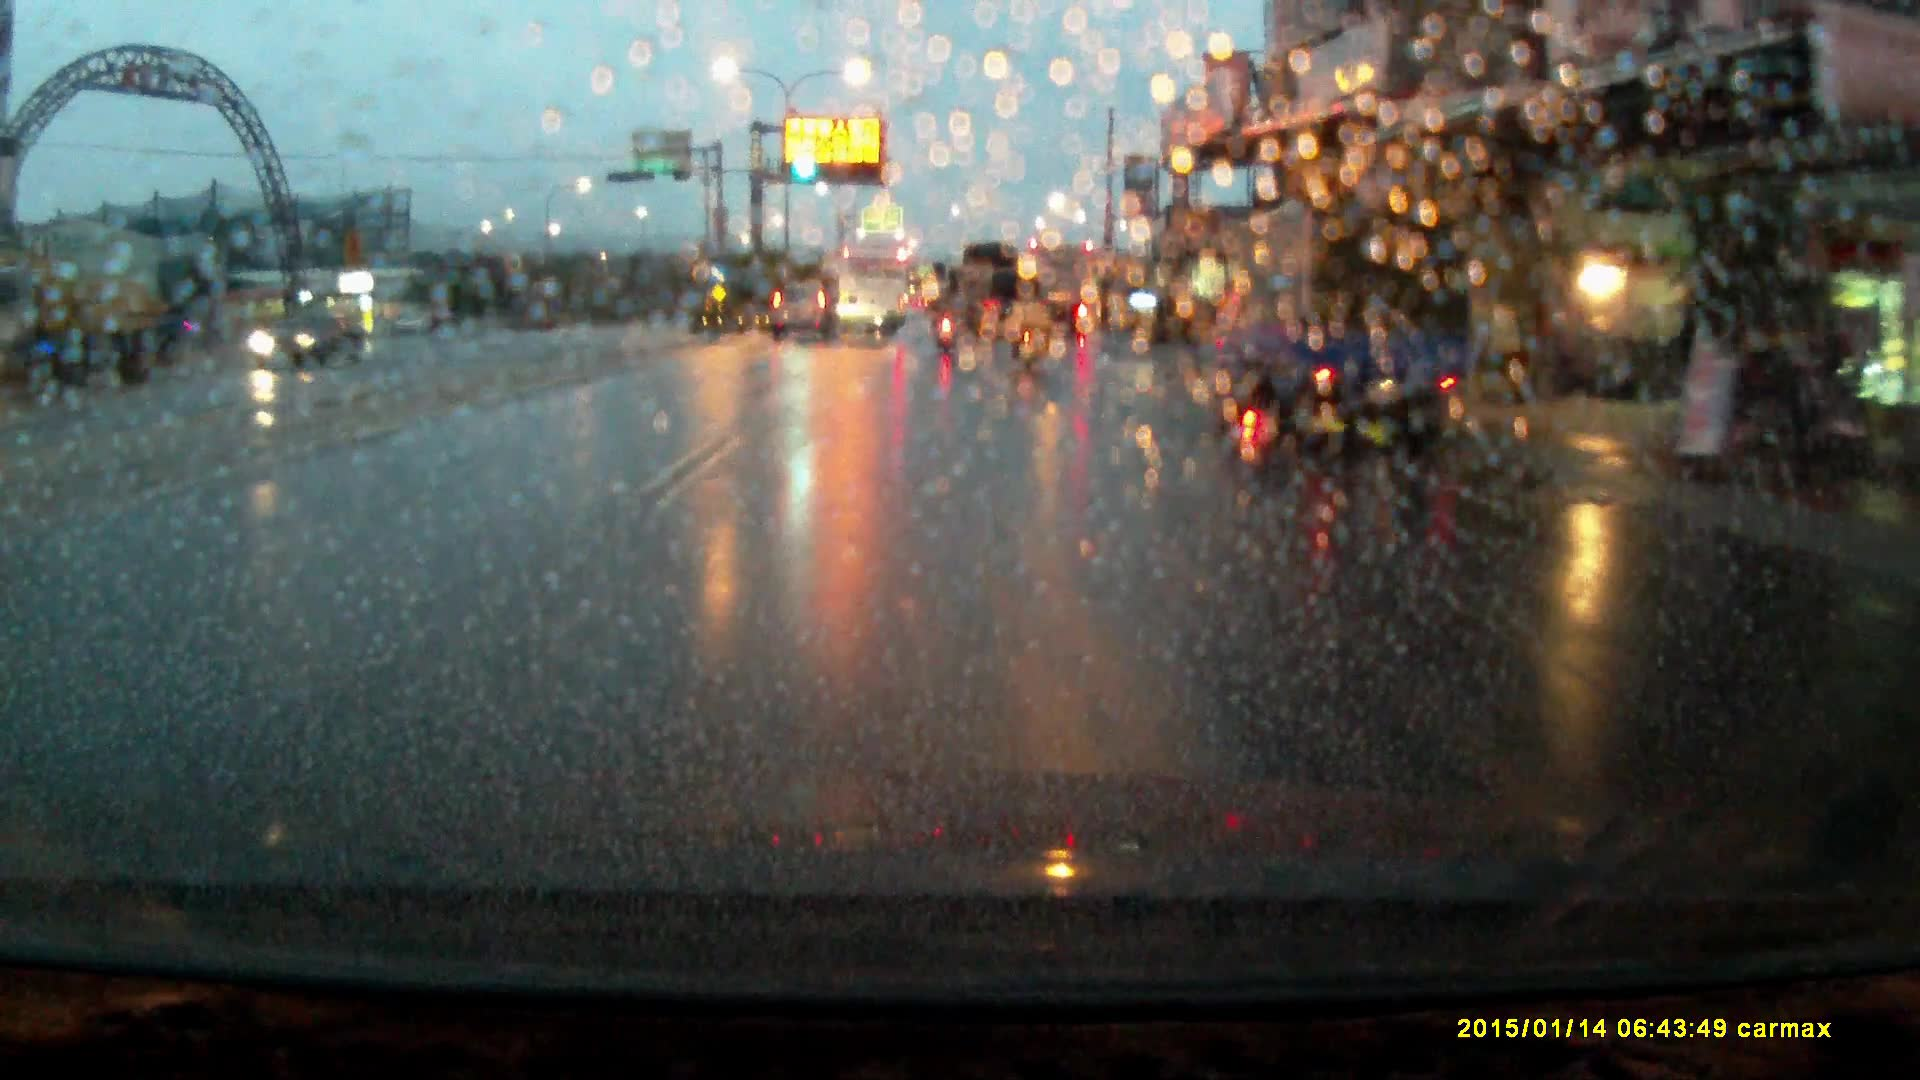rider: (1005, 278, 1050, 372), (931, 282, 960, 351)
vehicle: (1201, 193, 1482, 452), (1, 262, 180, 391), (250, 306, 358, 376), (835, 244, 908, 335), (962, 242, 1036, 332), (1028, 245, 1095, 330), (771, 281, 838, 338)
